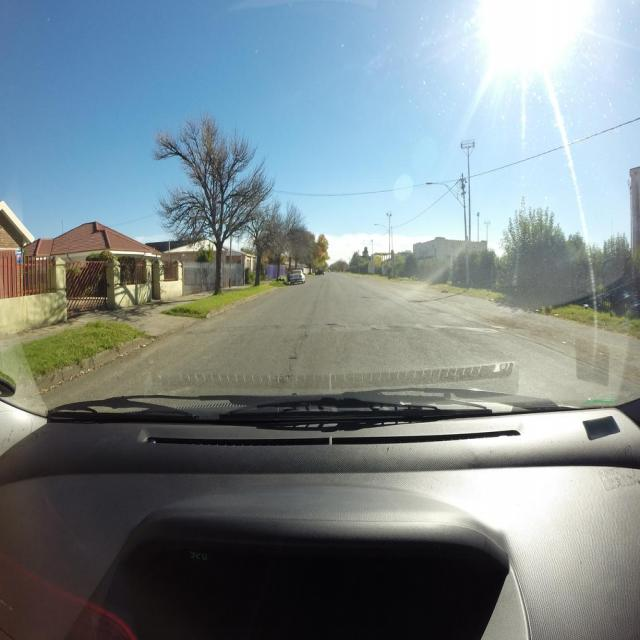Pothole: (325, 322, 339, 326)
